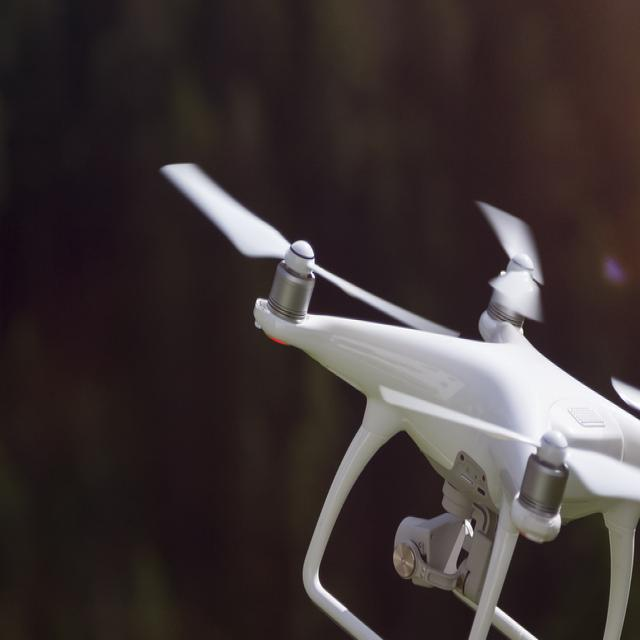drone: (130, 123, 640, 640)
